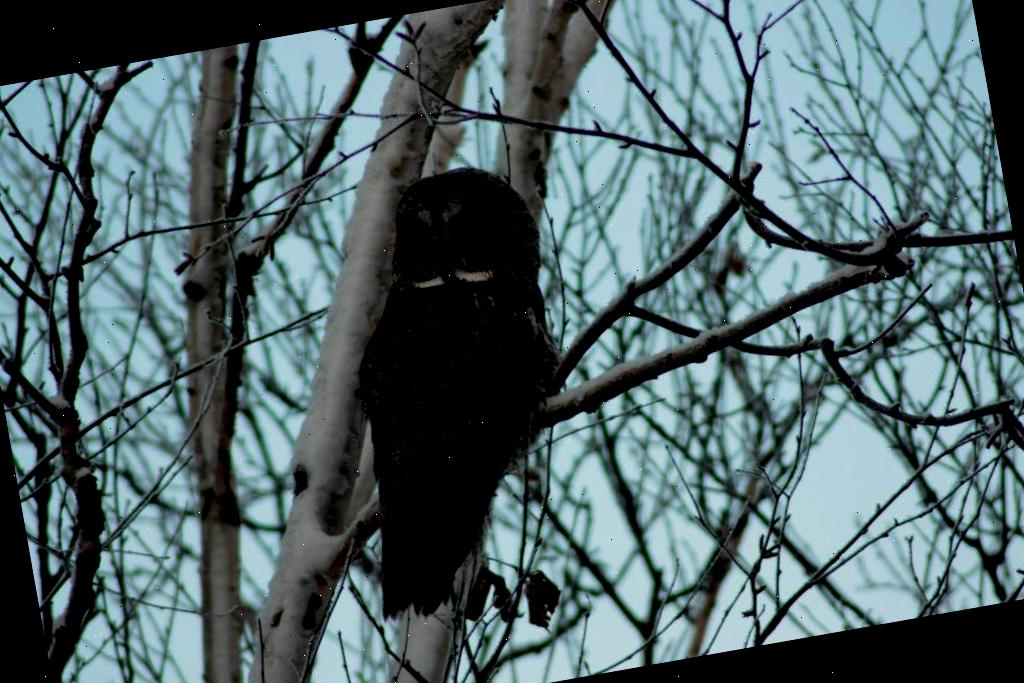Owl: (306, 158, 604, 622)
